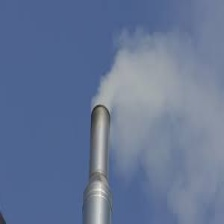smoke: (96, 56, 223, 141)
